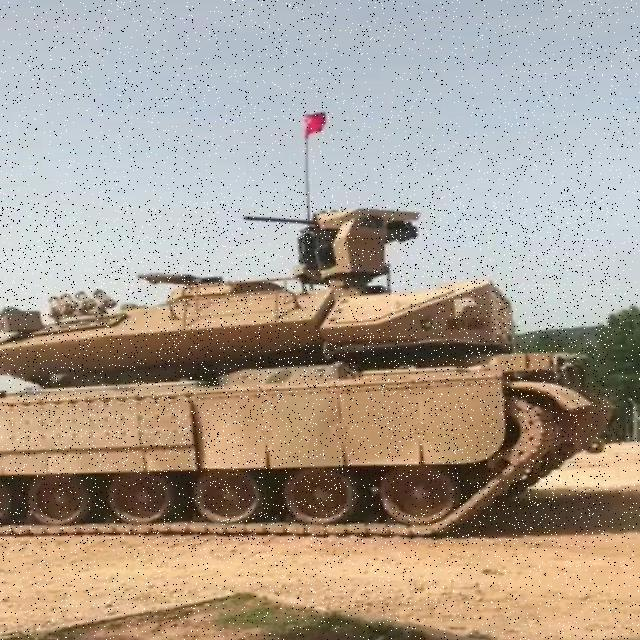MIL_MBT: (0, 200, 609, 546)
